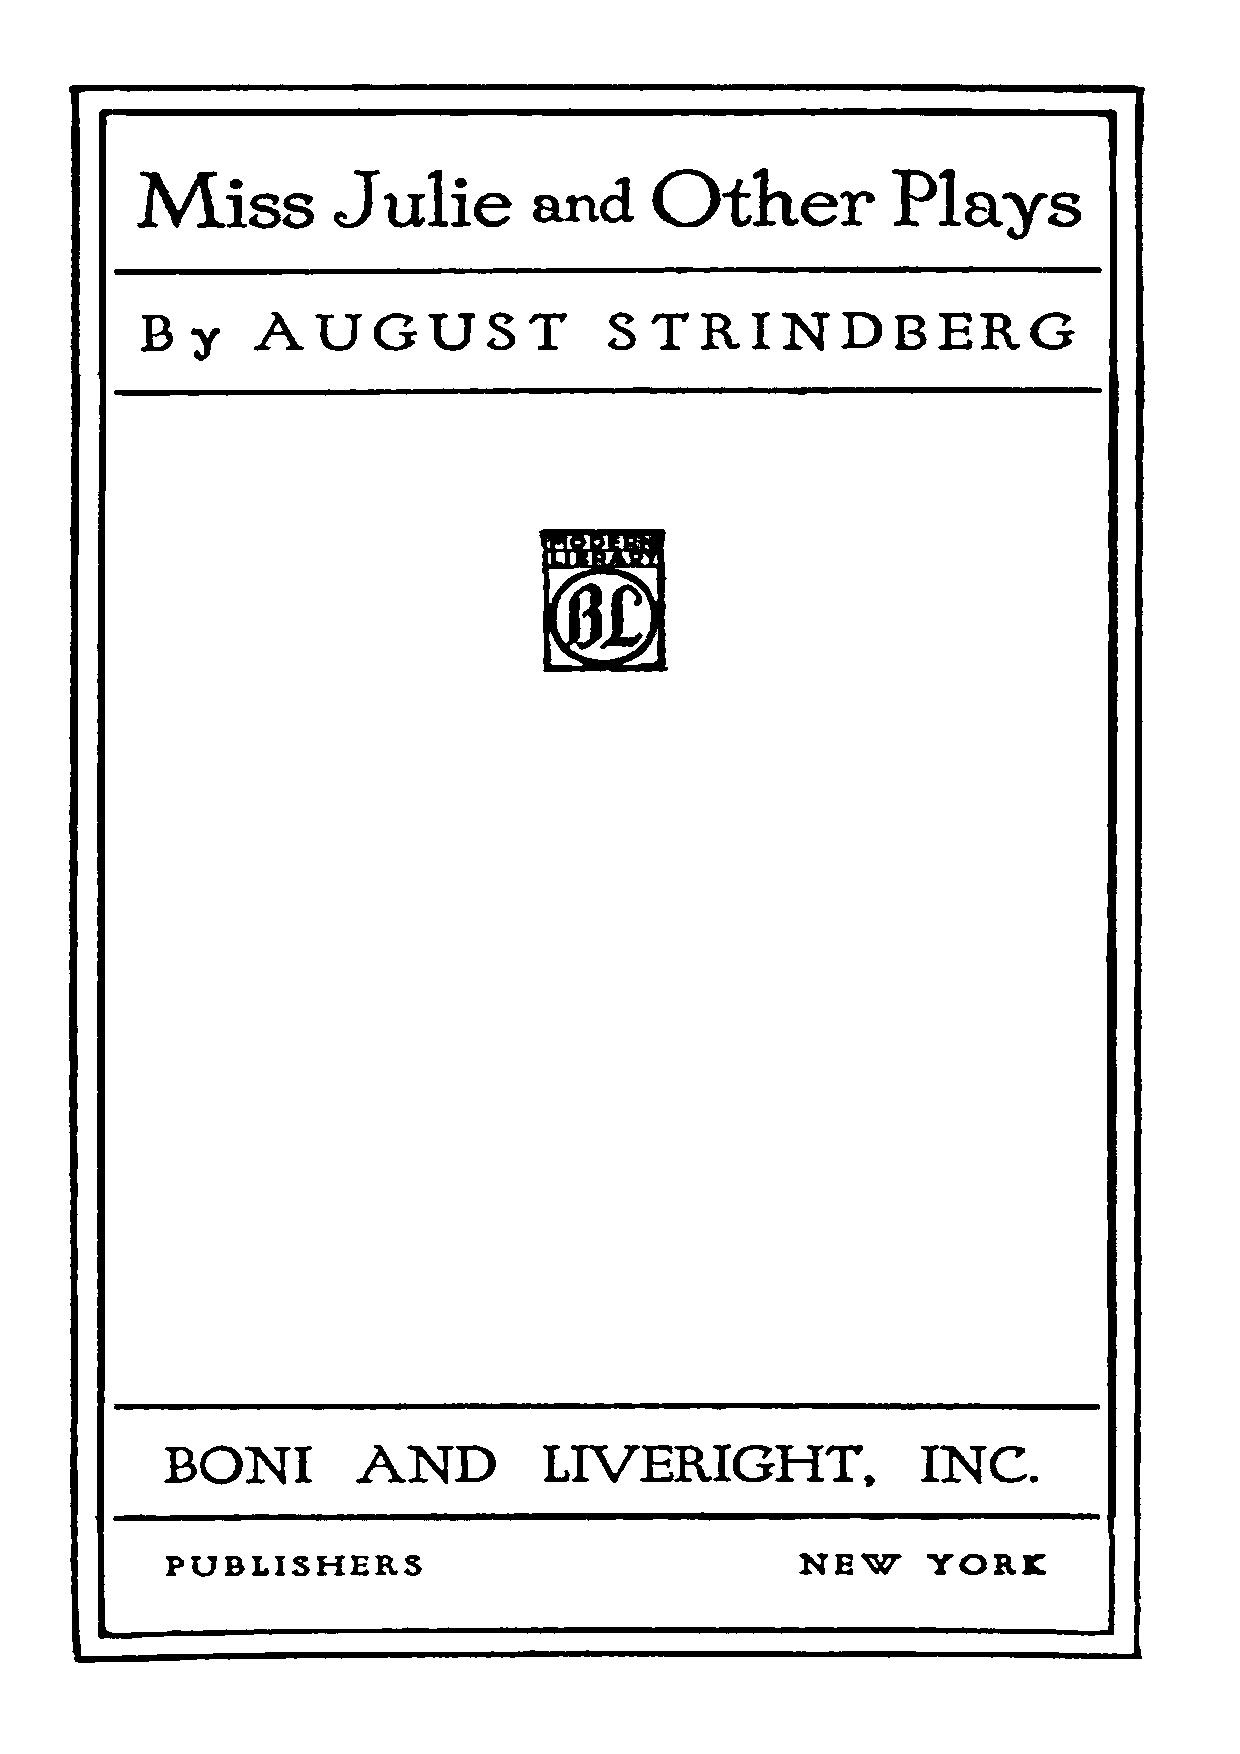author: (136, 309, 1075, 365)
title: (129, 165, 1083, 243)
